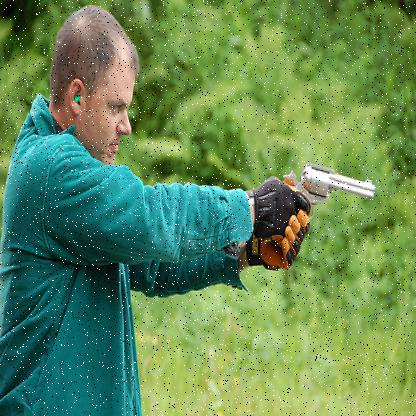pistol: (264, 165, 377, 246)
